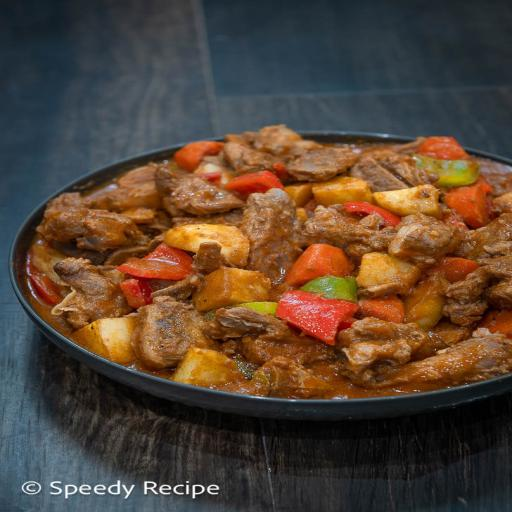pork caldereta: (39, 129, 512, 402)
